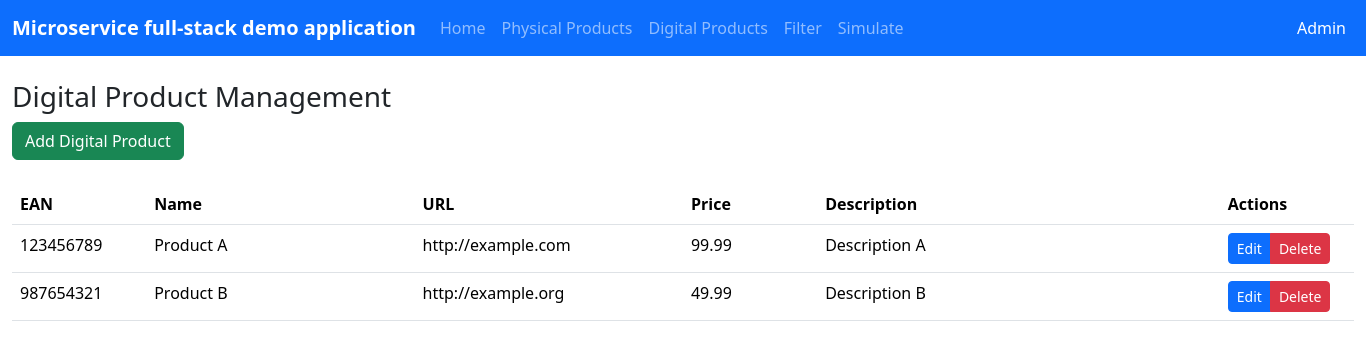
Test: DigitalProduct Component › removes a product when delete button is clicked
Expected: the text "Product A" is shown, x1=146 y1=224 x2=415 y2=272
Expected: the text "Product B" is shown, x1=146 y1=272 x2=415 y2=320
Click the button "Delete" in the row of "123456789": (1300, 248) x1=1270 y1=233 x2=1330 y2=264
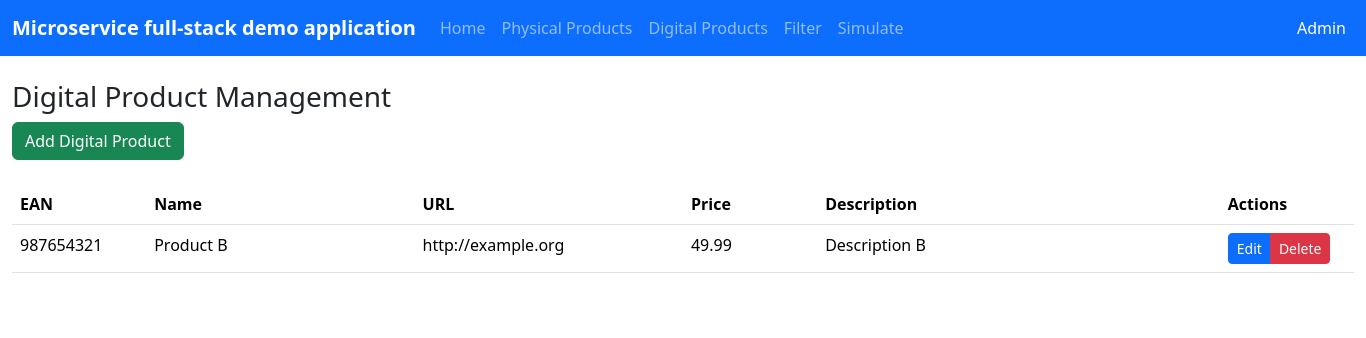
Expected: the text "Product A" is gone
